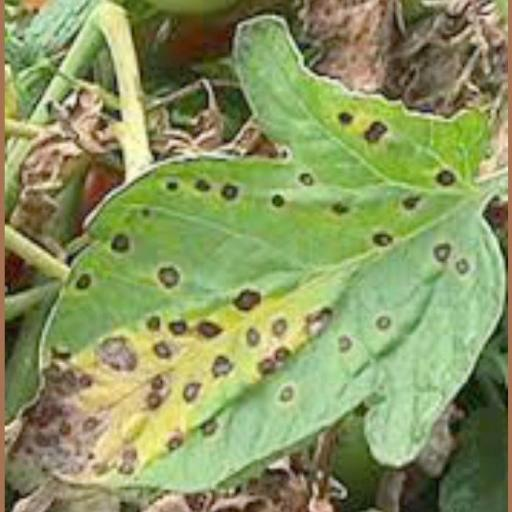disease_tomato: (19, 15, 506, 499)
